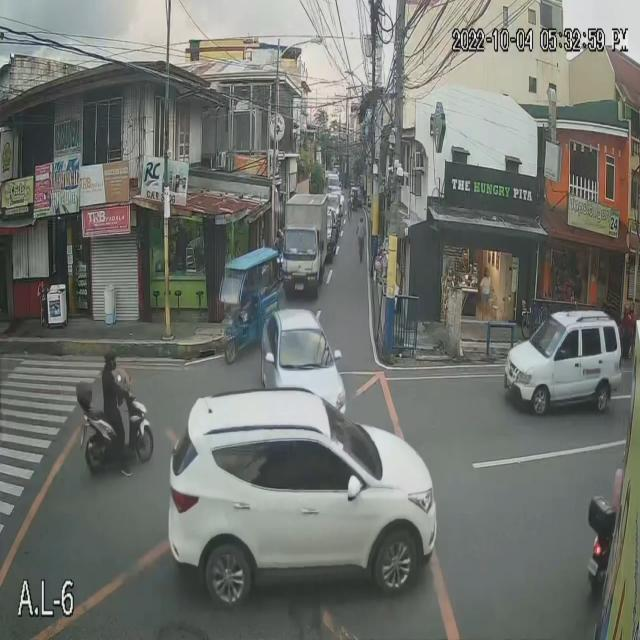full: (101, 348, 118, 370)
